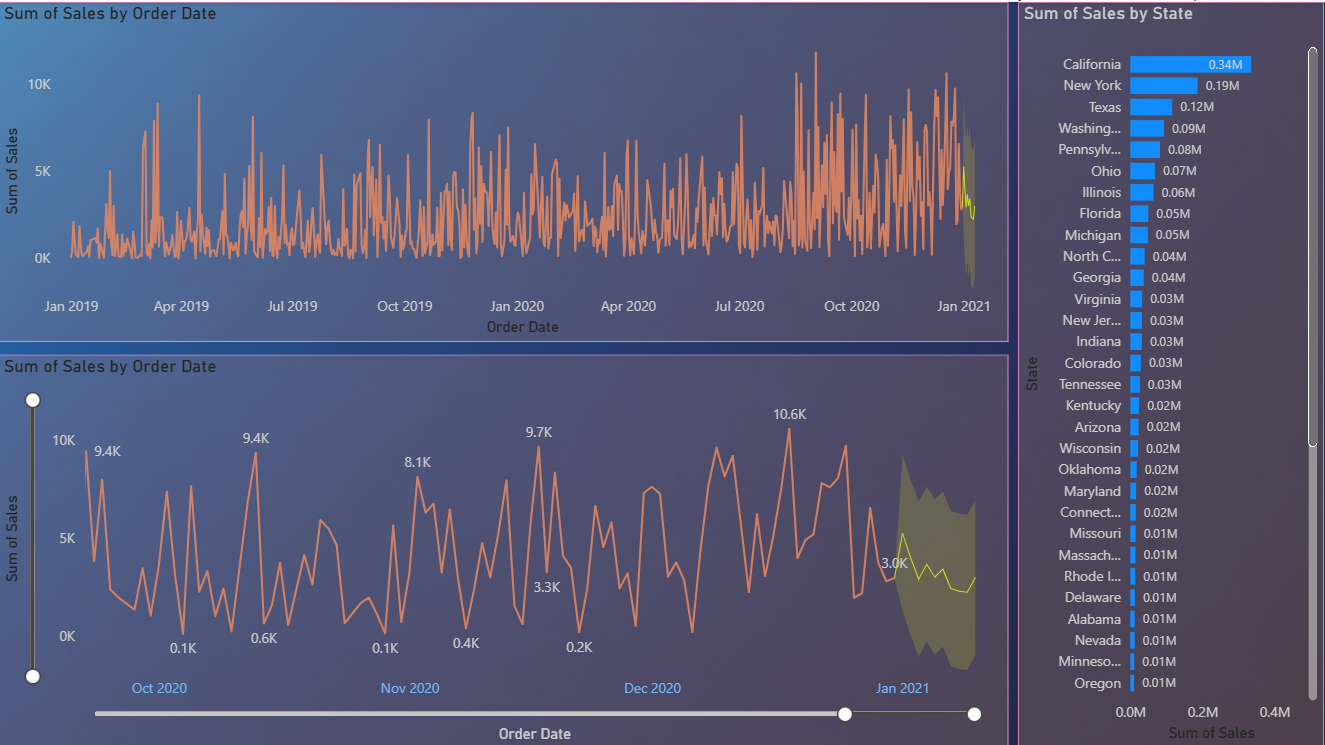

The page's visual inventory and layout, read from the dashboard file:
{"tool":"powerbi","page":{"name":"sales Forecast ","canvas":[1280,720],"ordinal":1},"visuals":[{"type":"lineChart","fields":{"Y":["Sum(SuperStore_Sales_Dataset.Sales)"],"Category":["SuperStore_Sales_Dataset.Order Date"]},"box":[0,0,975,328.3],"z":0},{"type":"lineChart","fields":{"Y":["Sum(SuperStore_Sales_Dataset.Sales)"],"Category":["SuperStore_Sales_Dataset.Order Date"]},"box":[0,340,975,380],"z":1000},{"type":"clusteredBarChart","fields":{"Category":["SuperStore_Sales_Dataset.State"],"Y":["Sum(SuperStore_Sales_Dataset.Sales)"]},"box":[985,0,295,720],"z":2000}]}

Visuals, with their boxes in screenshot pixels (x1, y1, x2, y2), scaled from the page's 1280x720 canvas onto the 1325x745 screenshot:
lineChart - Sum(SuperStore_Sales_Dataset.Sales) x SuperStore_Sales_Dataset.Order Date: {"x1": 0, "y1": 0, "x2": 1009, "y2": 340}
lineChart - Sum(SuperStore_Sales_Dataset.Sales) x SuperStore_Sales_Dataset.Order Date: {"x1": 0, "y1": 352, "x2": 1009, "y2": 744}
clusteredBarChart - SuperStore_Sales_Dataset.State x Sum(SuperStore_Sales_Dataset.Sales): {"x1": 1020, "y1": 0, "x2": 1324, "y2": 744}
